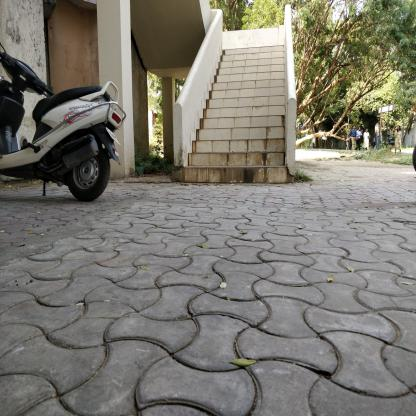stairs: (223, 44, 285, 191)
